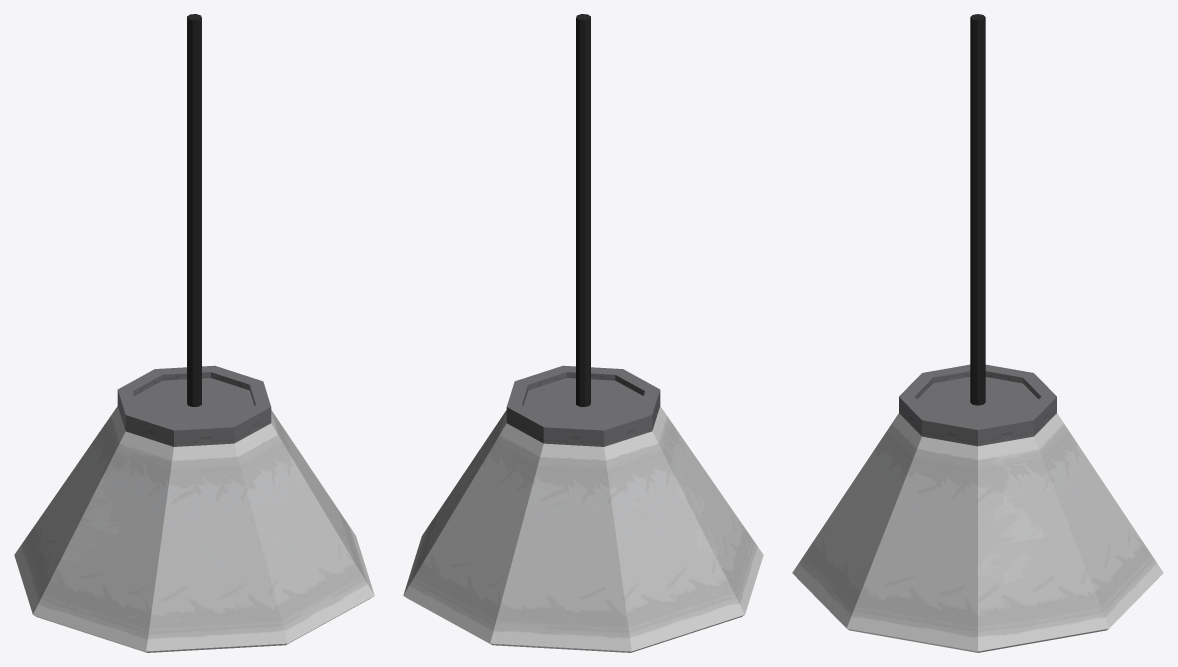
The model's file is mdlLight.fbx.
The picture shows the model from 3 angles, left to right: view 1: azimuth 30°, elevation 25°; view 2: azimuth 150°, elevation 25°; view 3: azimuth 270°, elevation 25°; orthographic projection.
Parts seen in each view (by area): view 1: Cylinder.002; view 2: Cylinder.002; view 3: Cylinder.002.
Part boxes in pixels (x1=…): Cylinder.002: x1=14, y1=14, x2=374, y2=652; Cylinder.002: x1=403, y1=14, x2=763, y2=652; Cylinder.002: x1=792, y1=14, x2=1163, y2=652.
Bounding box in the file's own units: 2.8 × 4.65 × 2.8.
